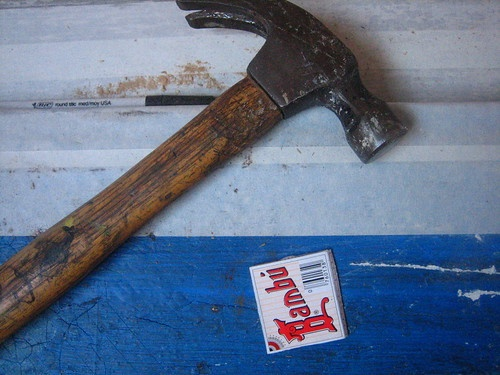hammer: (1, 1, 409, 342)
